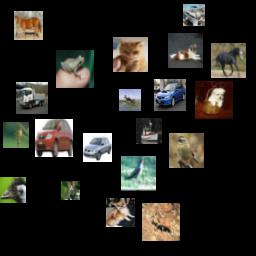airplane: (119, 89, 141, 111)
automobile: (35, 119, 73, 157), (154, 79, 186, 111), (83, 133, 112, 162)
bird: (169, 133, 204, 168), (121, 156, 156, 191), (0, 177, 26, 203), (3, 122, 29, 148)
cat: (113, 37, 148, 72), (61, 181, 80, 200)
deer: (142, 203, 180, 241)
dog: (195, 81, 233, 119), (168, 33, 203, 68), (106, 198, 135, 227)
frog: (56, 50, 94, 88)
ship: (136, 118, 162, 144), (183, 4, 205, 26)
truck: (16, 82, 48, 114)
